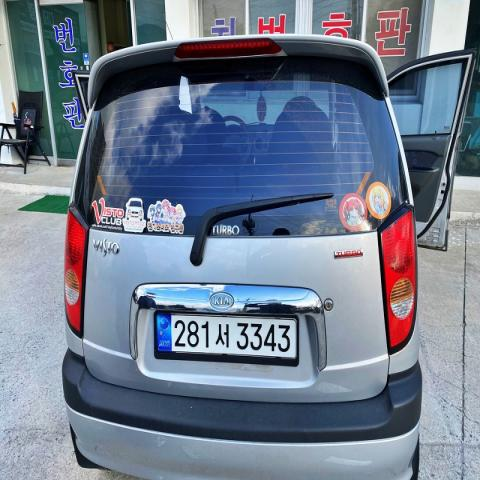LP: (144, 301, 308, 368)
